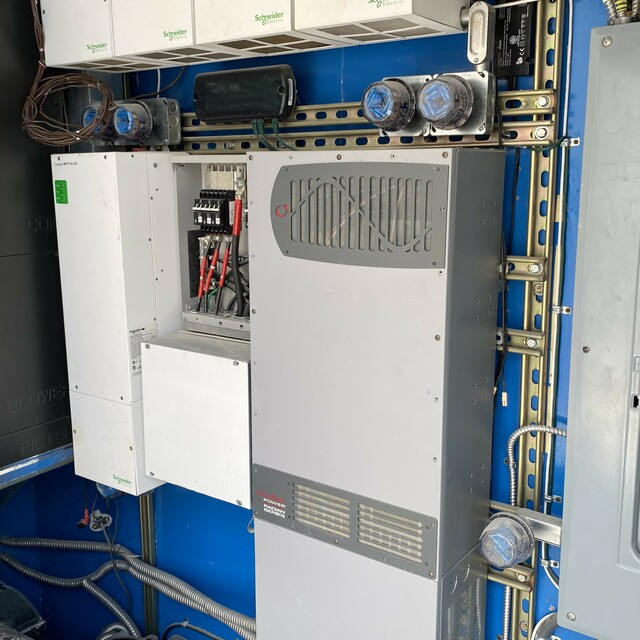inverter: (232, 137, 504, 640)
